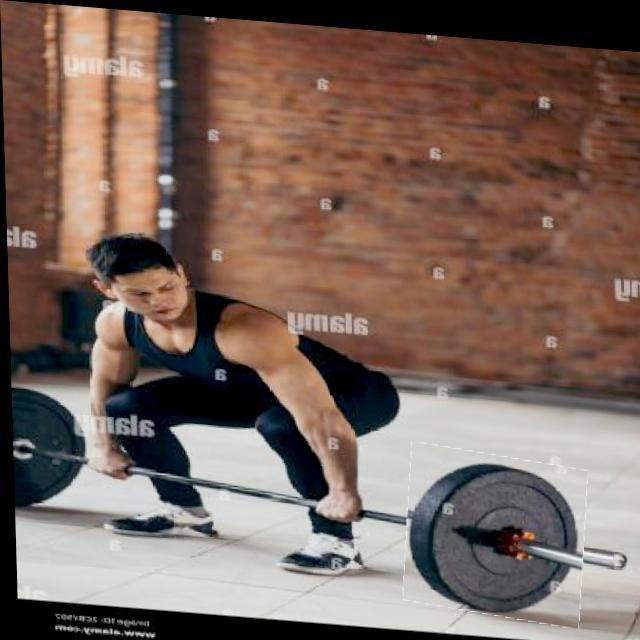barbell: (399, 438, 586, 617)
